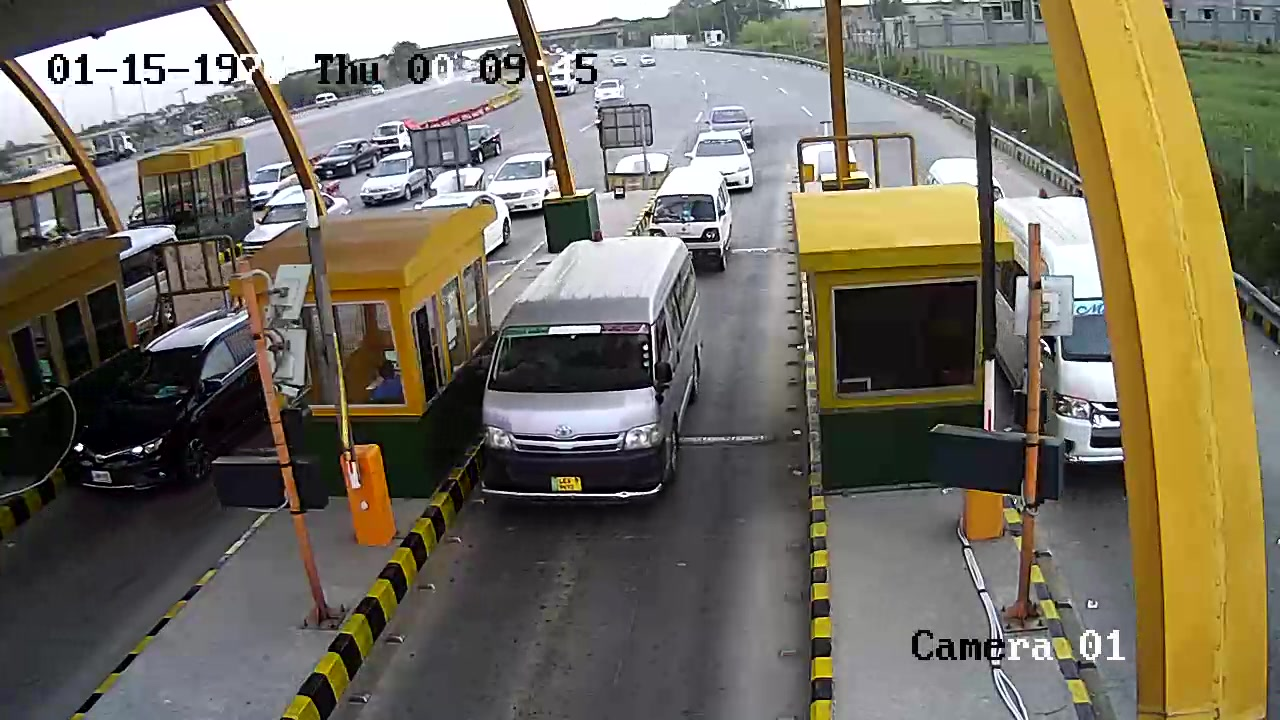F3: (471, 230, 707, 522)
